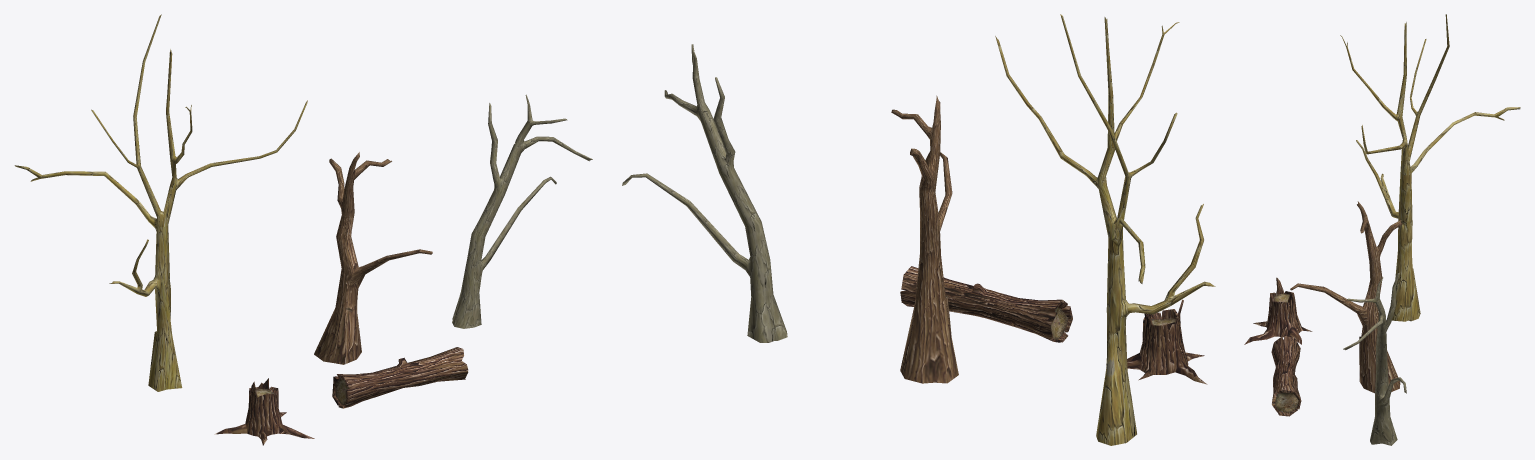
The model's file is Tree2.fbx.
3 views of the same model, side by side, from view 1: azimuth 30°, elevation 25°; view 2: azimuth 150°, elevation 25°; view 3: azimuth 270°, elevation 25° (orthographic). The views are drawn at different scales.
Parts seen in each view (by area): view 1: tree_02, tree_03, tree_04, tree_05, tree_06; view 2: tree_02, tree_03, tree_04, tree_05, tree_06; view 3: tree_02, tree_03, tree_04, tree_05, tree_06.
Boxes of the visible parts, bbox=[...] form: tree_02: bbox=[14, 14, 307, 391]; tree_03: bbox=[314, 152, 432, 364]; tree_04: bbox=[452, 94, 592, 328]; tree_05: bbox=[332, 347, 468, 408]; tree_06: bbox=[214, 378, 314, 445]; tree_02: bbox=[995, 14, 1215, 445]; tree_03: bbox=[891, 95, 958, 383]; tree_04: bbox=[622, 44, 787, 342]; tree_05: bbox=[900, 266, 1072, 342]; tree_06: bbox=[1127, 299, 1207, 384]; tree_02: bbox=[1340, 14, 1520, 321]; tree_03: bbox=[1290, 201, 1402, 393]; tree_04: bbox=[1343, 273, 1406, 445]; tree_05: bbox=[1271, 335, 1301, 416]; tree_06: bbox=[1244, 277, 1312, 344].
Bounding box in the file's own units: 8766 × 6149 × 4924.
